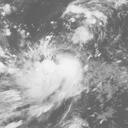cyclone: (31, 53, 83, 100)
